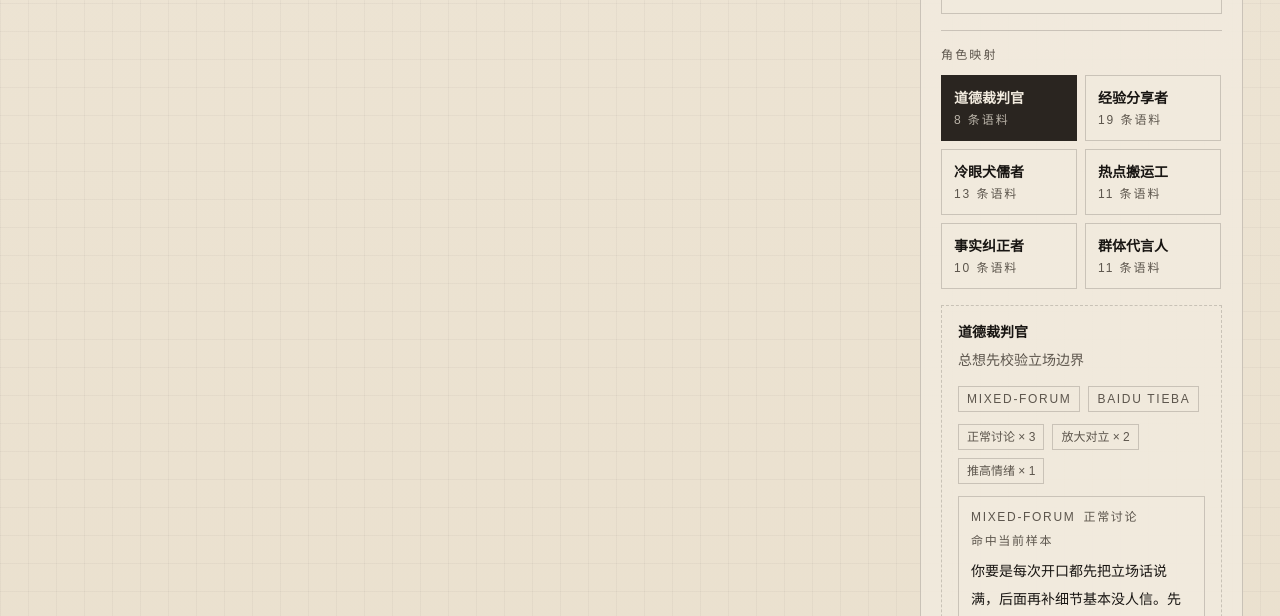
Test: 首页圆桌操盘 › 切换角色和样本问题后，会更新对应的话术示例
(page scrolled)
Click the button "事实纠正者 10 条语料" at [1009, 256], box 941,223 -> 1077,289
(page scrolled)
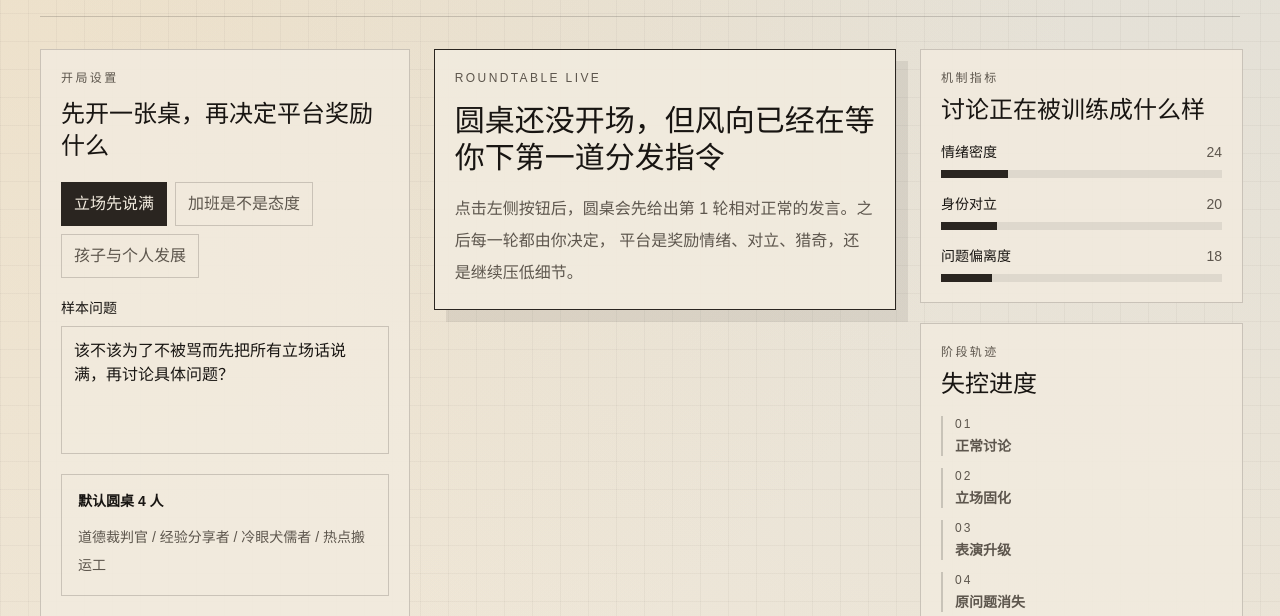
Click the button "孩子与个人发展" at [130, 256], box 61,234 -> 199,278
(page scrolled)
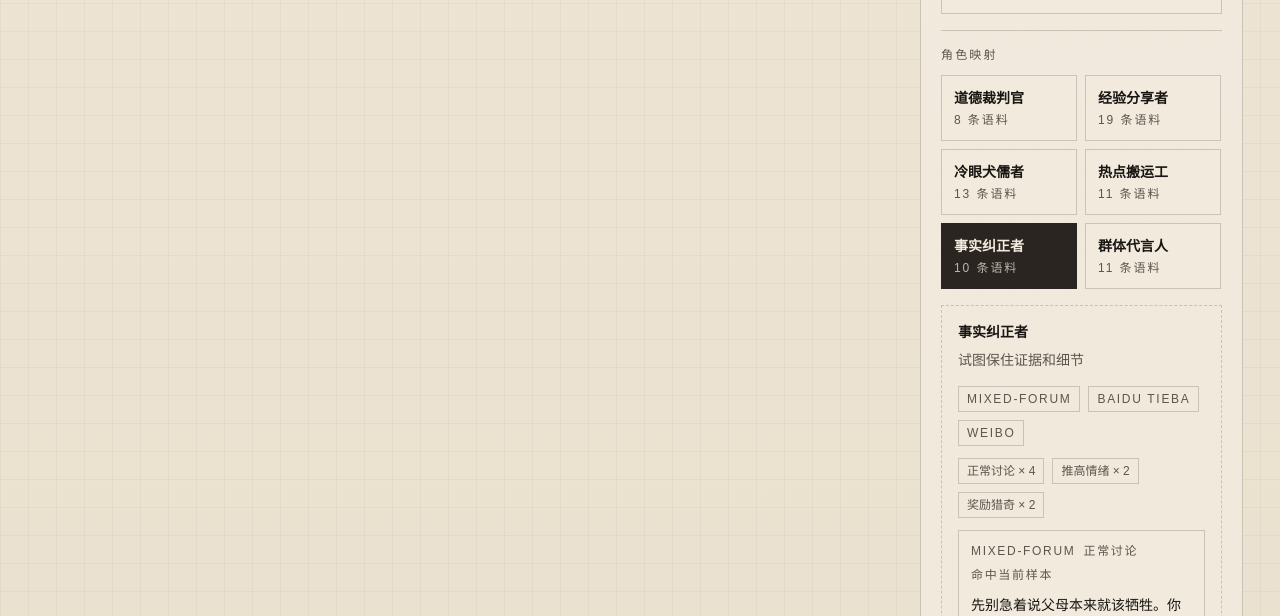
Click the button "群体代言人 11 条语料" at [1153, 256], box 1085,223 -> 1221,289
(page scrolled)
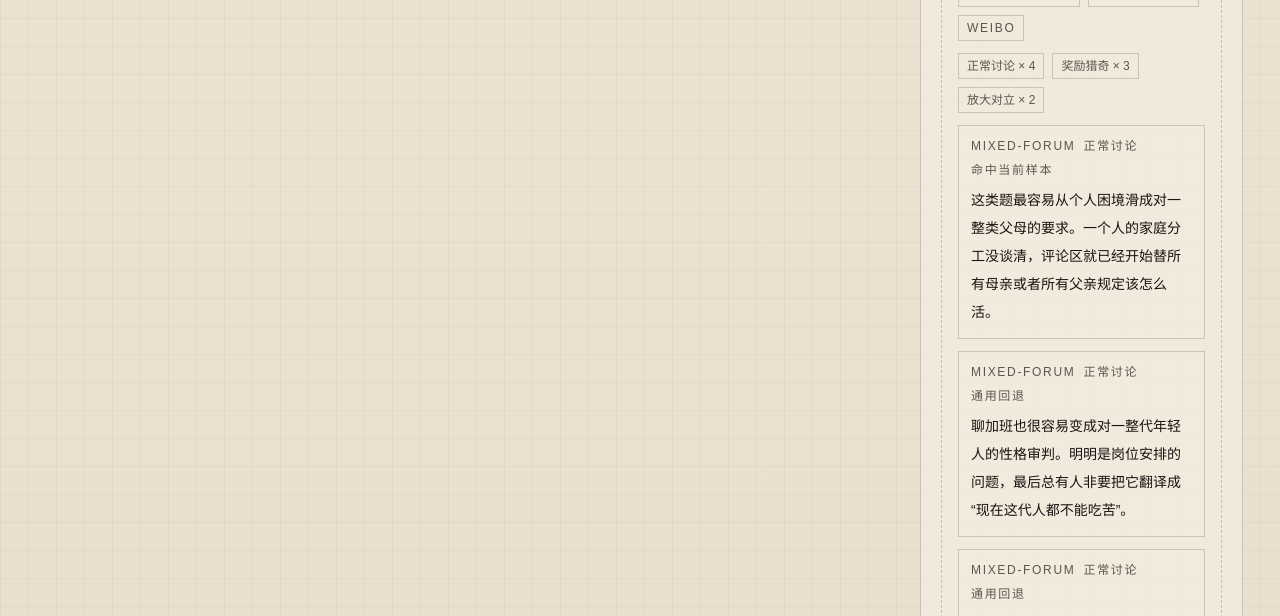
Check: the text "这类题最容易从个人困境滑成对一整类父母的要求。一个人的家庭分工没谈清，评论区就已经开始替所有母亲或者所有父亲规定该怎么活。" is shown, box 971,186 -> 1192,326
